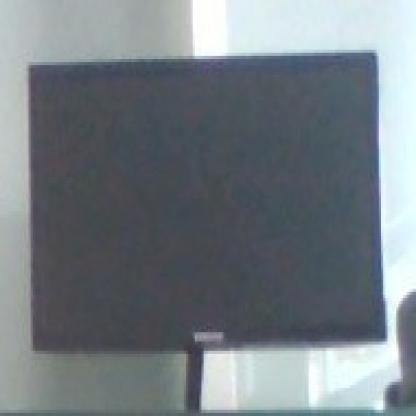not trash: (26, 54, 382, 352)
